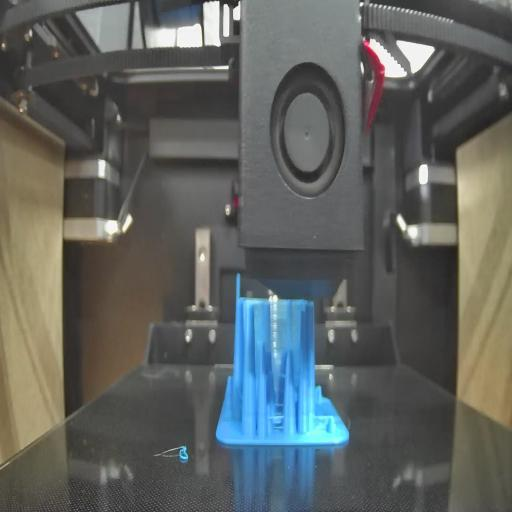stringing: (272, 298, 301, 368), (268, 406, 289, 438)
